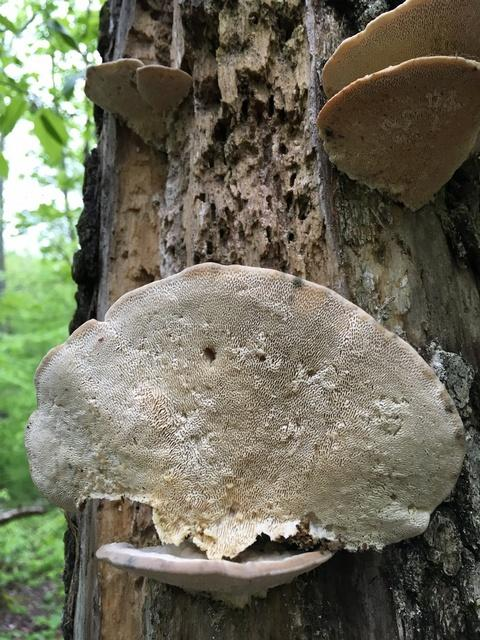poisonous_mushroom: (23, 260, 467, 606), (315, 0, 479, 211)
